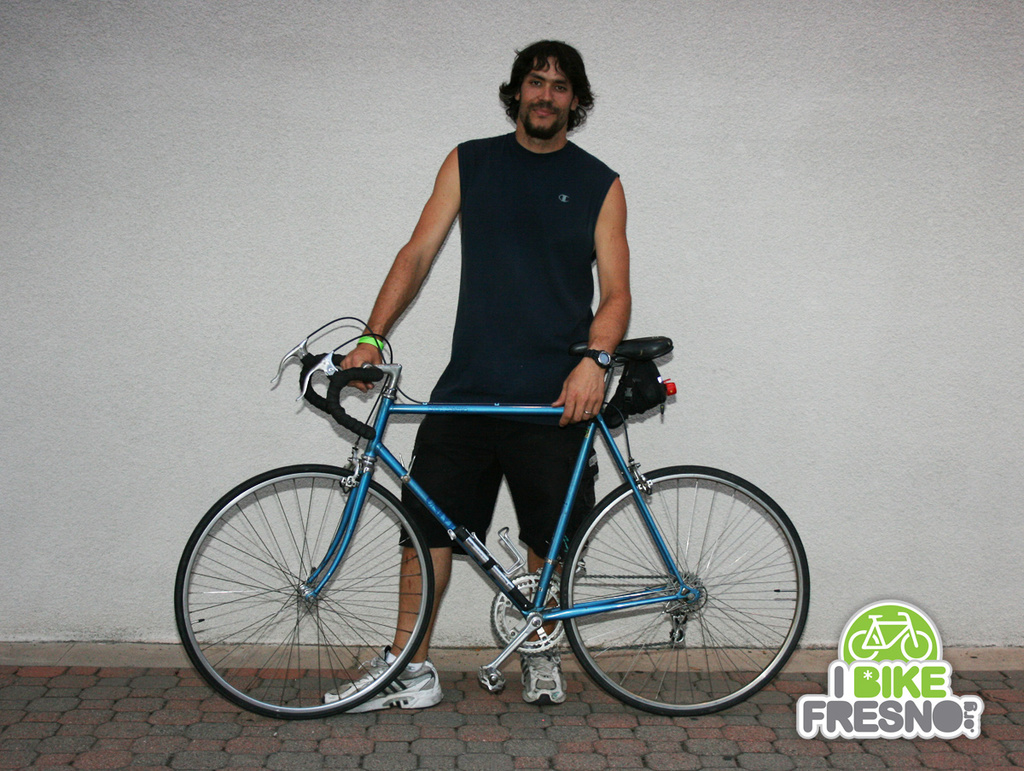Bike_toward: (111, 341, 827, 737)
